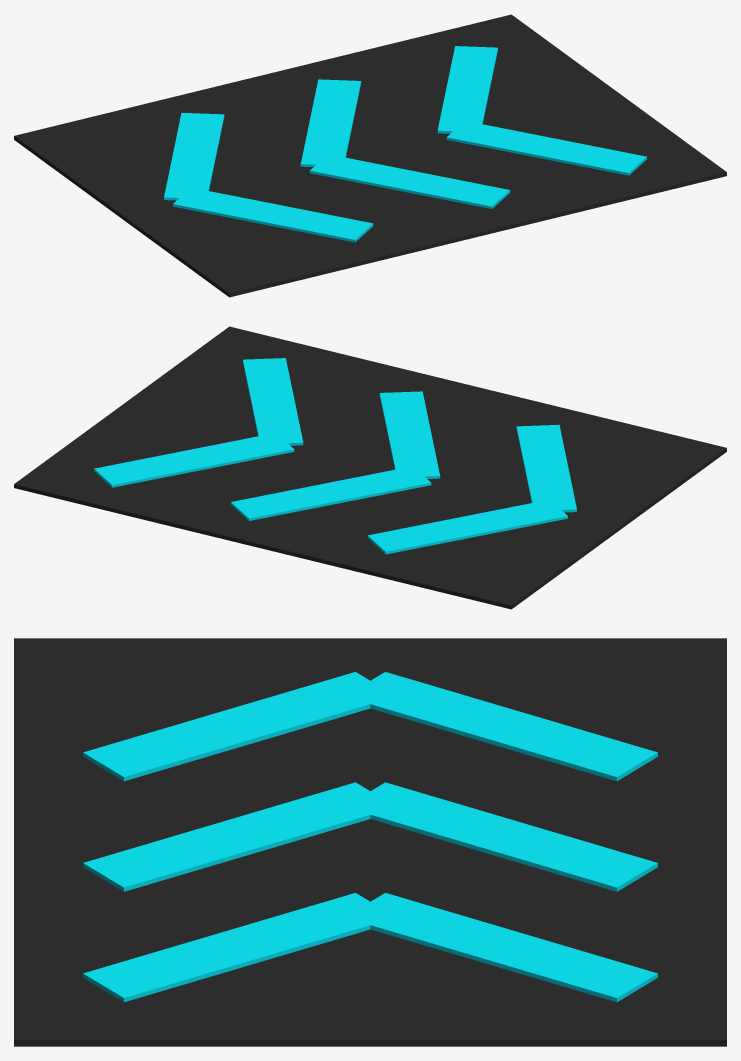
File: boostpad.glb
The picture shows the model from 3 angles, top to bottom: view 1: azimuth 30°, elevation 25°; view 2: azimuth 150°, elevation 25°; view 3: azimuth 270°, elevation 25°; orthographic projection. The views are drawn at different scales.
Parts seen in each view (by area): view 1: SM_BoostPad; view 2: SM_BoostPad; view 3: SM_BoostPad.
Boxes of the visible parts, bbox=[...] form: SM_BoostPad: bbox=[14, 14, 726, 297]; SM_BoostPad: bbox=[14, 326, 726, 609]; SM_BoostPad: bbox=[14, 638, 726, 1046].
Bounding box in the file's own units: 8 × 0.1001 × 6.
